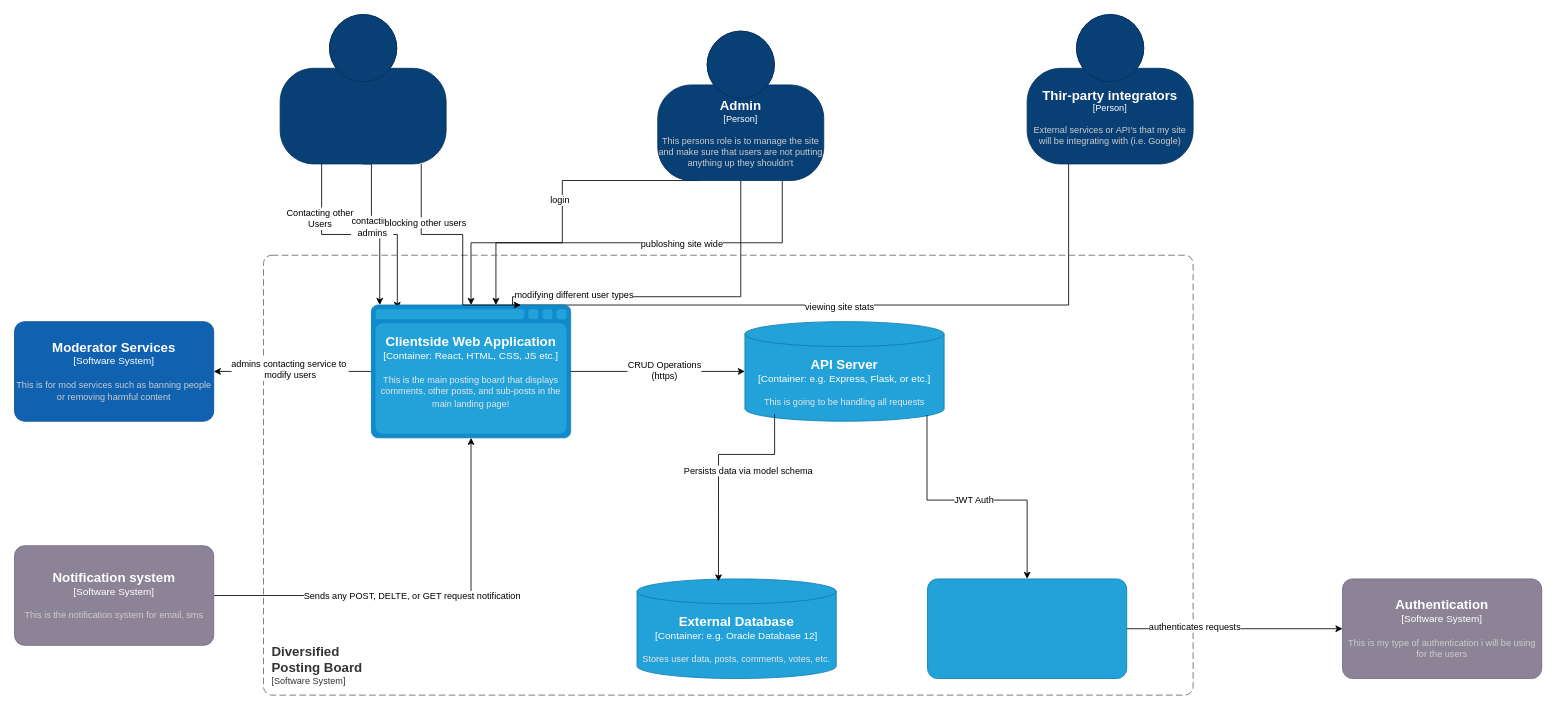
This 1556x710 diagram has some shape labels left out. The centre of each missing label's shape, as x and y in pixels:
Authentication Service [Container: ] Handles user logins: the point at 1027,628
User [Person] People who will be posting and sharing information online: the point at 362,89
